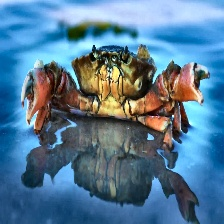crab: (20, 45, 171, 136)
